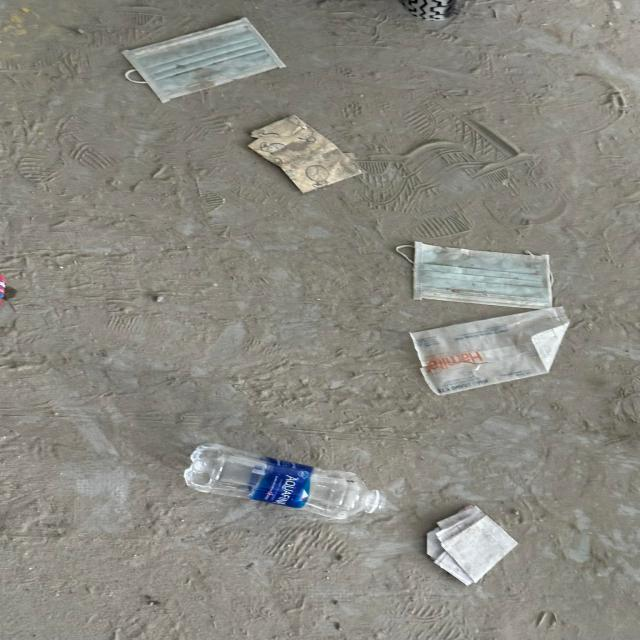bottle: (184, 445, 382, 520)
clothes: (427, 505, 518, 585)
mask: (118, 18, 286, 104), (395, 239, 554, 308)
packet: (409, 308, 569, 395)
paper: (245, 116, 363, 190)
